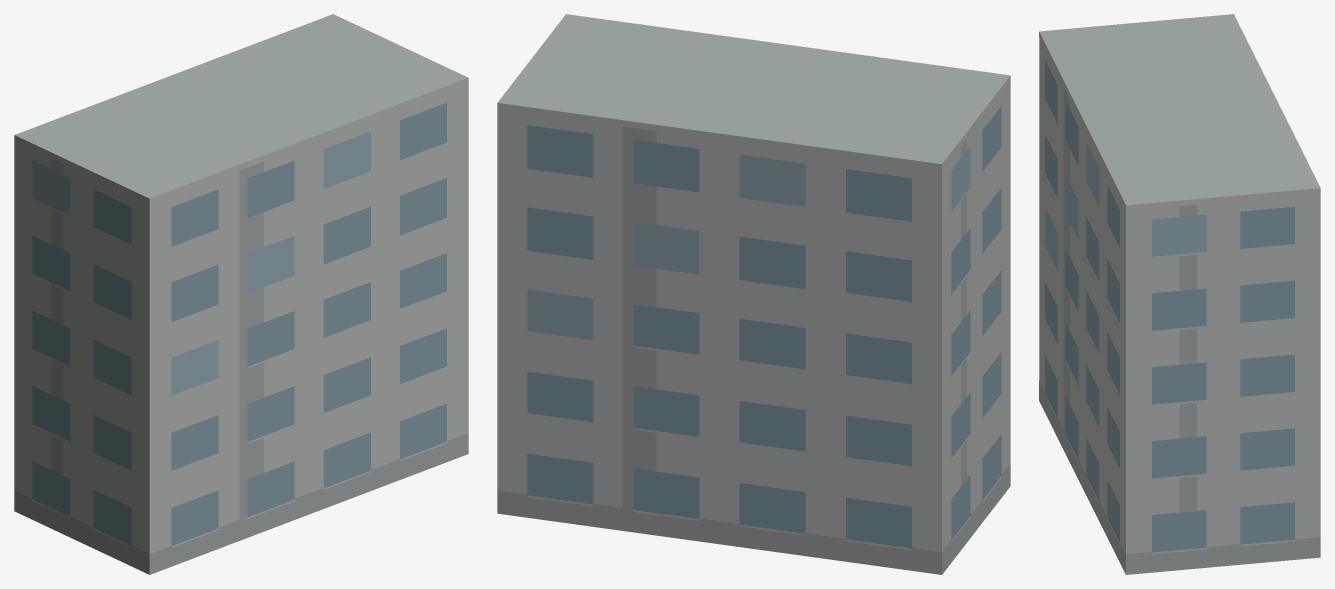
File: residential-c8fd5520-bbca-46c0-8c53-01ac3016e132.glb
3 renders of one model, left to right at view 1: azimuth 30°, elevation 25°; view 2: azimuth 150°, elevation 25°; view 3: azimuth 270°, elevation 25°, orthographic. The views are drawn at different scales.
Parts seen in each view (by area): view 1: residential-c8fd5520-bbca-46c0-8c53-01ac3016e132.tmp; view 2: residential-c8fd5520-bbca-46c0-8c53-01ac3016e132.tmp; view 3: residential-c8fd5520-bbca-46c0-8c53-01ac3016e132.tmp.
Boxes of the visible parts, x1=… form: residential-c8fd5520-bbca-46c0-8c53-01ac3016e132.tmp: x1=14, y1=14, x2=468, y2=574; residential-c8fd5520-bbca-46c0-8c53-01ac3016e132.tmp: x1=497, y1=14, x2=1010, y2=574; residential-c8fd5520-bbca-46c0-8c53-01ac3016e132.tmp: x1=1039, y1=14, x2=1320, y2=574.
Size of the model in its own units: 16.95 by 15.25 by 10.54.
